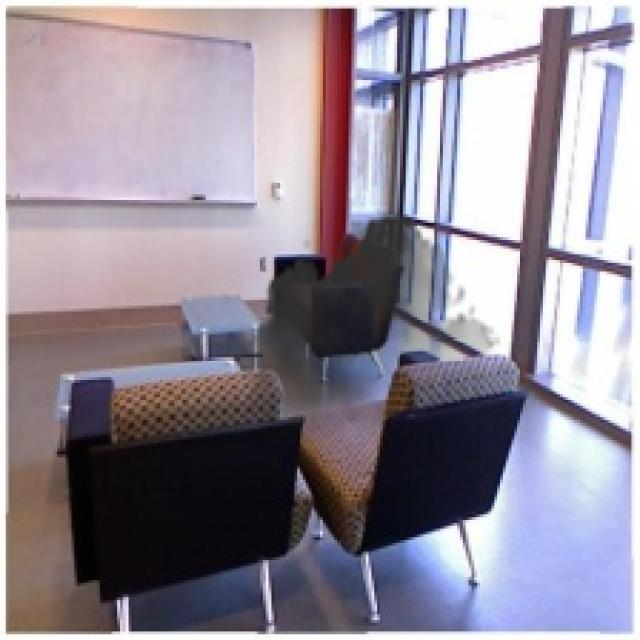Smoke: (243, 203, 503, 466)
